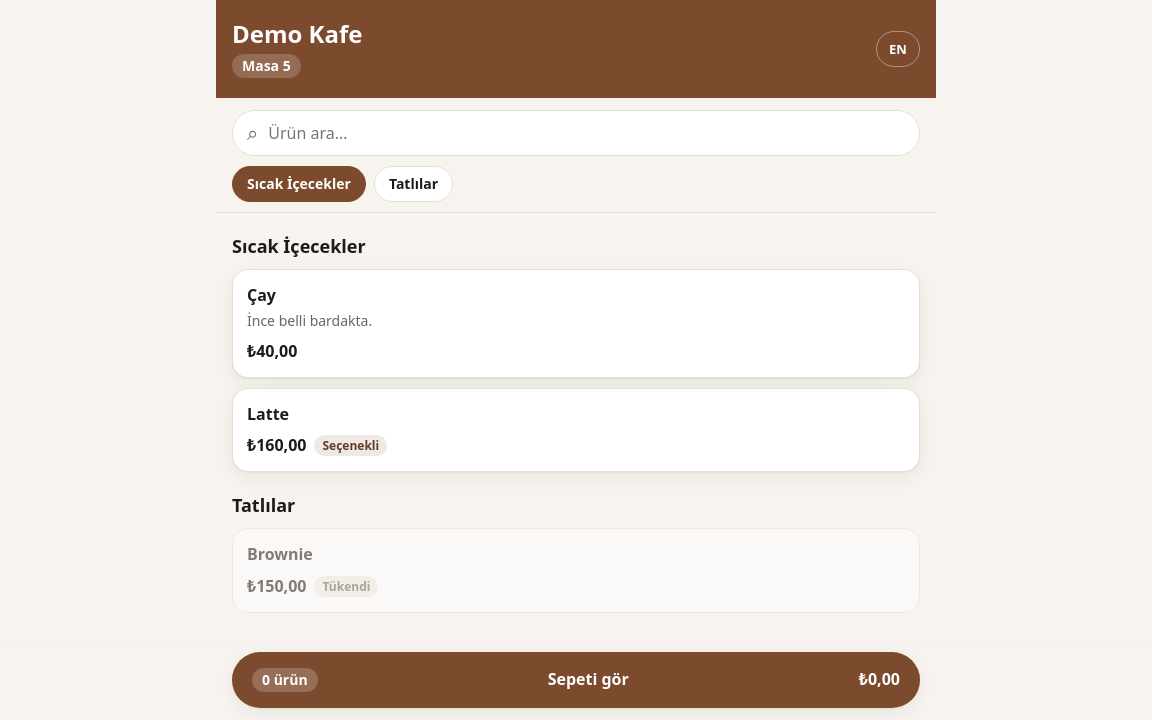
Test case: checkout › can't start checkout while the cart has a line that can no longer be ordered
What coordinates should you click on to do the following:
click the button "0 ürün Sepeti gör ₺0,00"
I would click on:
 (576, 680)
Its box is [232, 652, 920, 708].
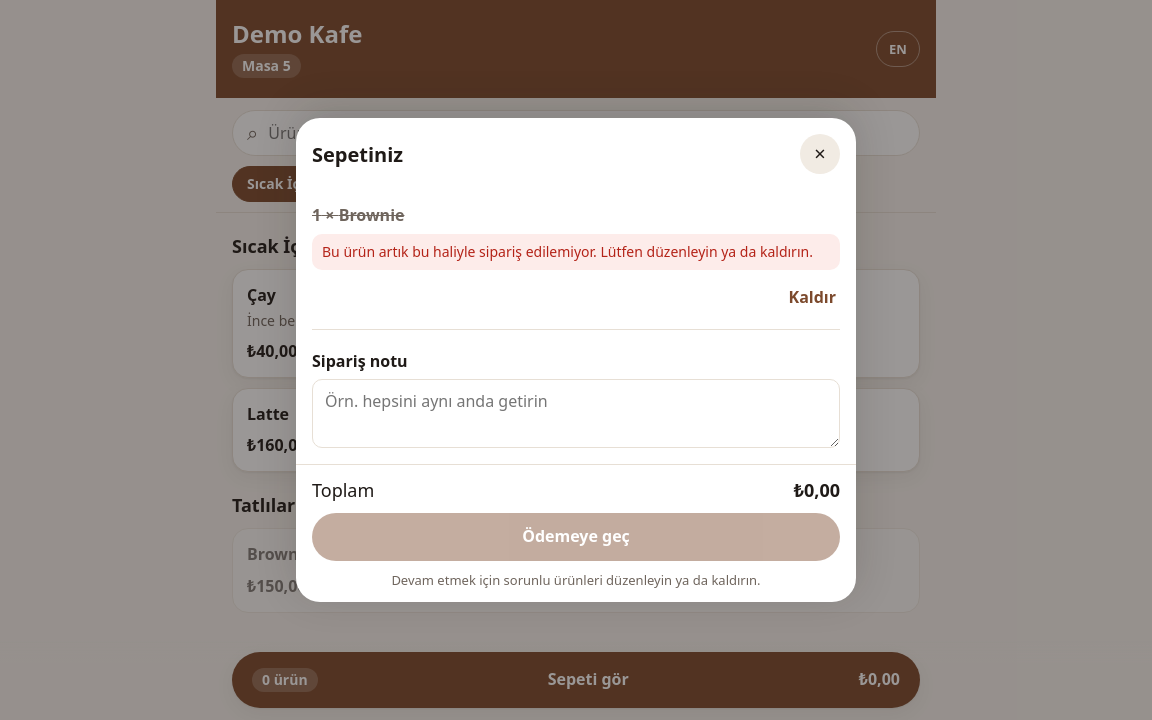
Expected: the button "Ödemeye geç" is disabled, [312, 513, 840, 561]
Expected: the text "Devam etmek için sorunlu ürünleri düzenleyin ya da kaldırın." is shown, [391, 571, 761, 589]
